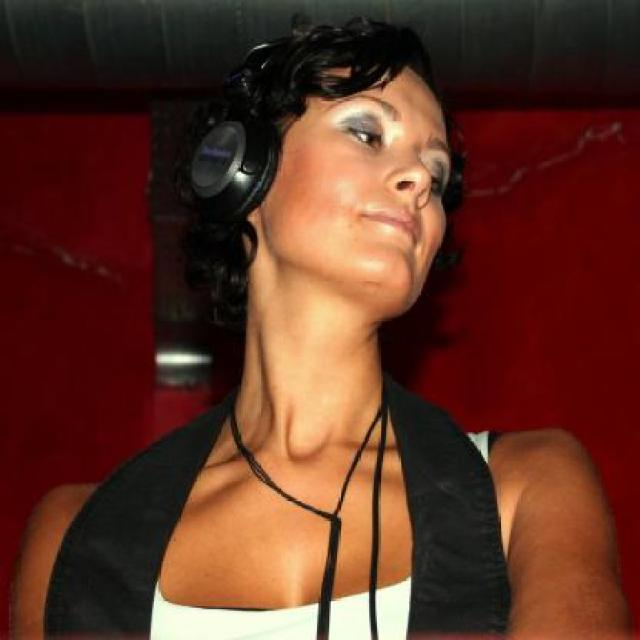earphone: (168, 27, 308, 225)
